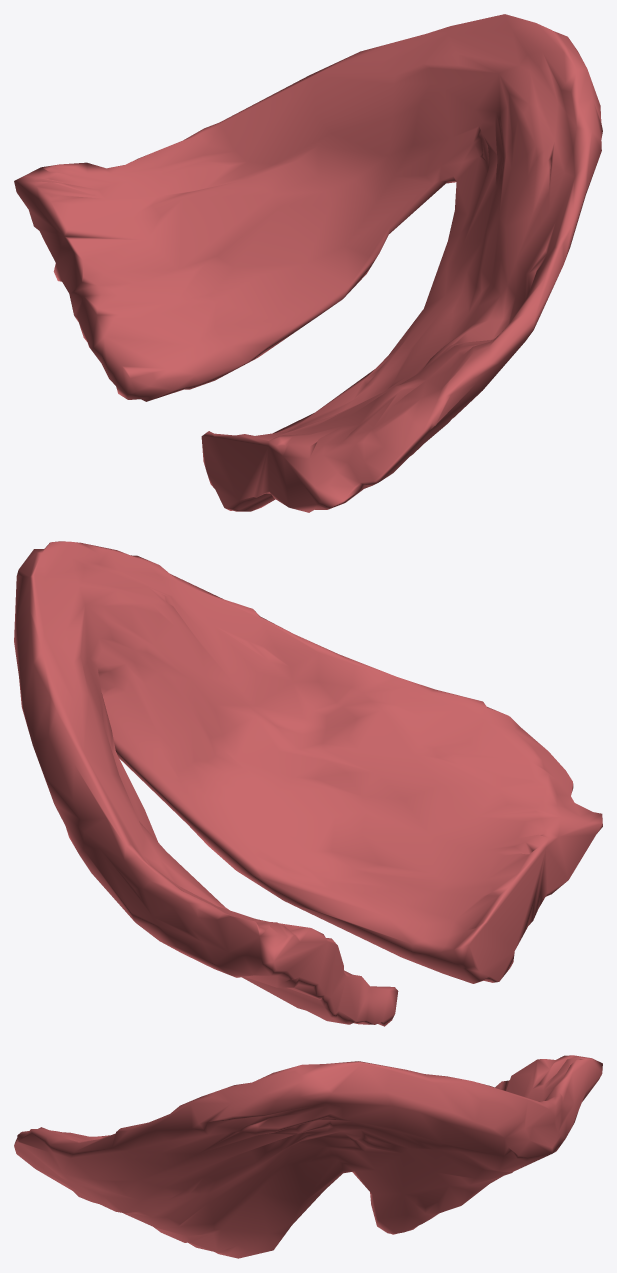
3 renders of one model, top to bottom at view 1: azimuth 30°, elevation 25°; view 2: azimuth 150°, elevation 25°; view 3: azimuth 270°, elevation 25°, orthographic. The views are drawn at different scales.
Visible parts, largest first — view 1: 左侧口轮匝肌; view 2: 左侧口轮匝肌; view 3: 左侧口轮匝肌.
Boxes of the visible parts, x1=… form: 左侧口轮匝肌: x1=14, y1=14, x2=602, y2=512; 左侧口轮匝肌: x1=14, y1=541, x2=602, y2=1026; 左侧口轮匝肌: x1=14, y1=1055, x2=602, y2=1258.
Size of the model in its own units: 0.0473 by 0.0407 by 0.0669.
